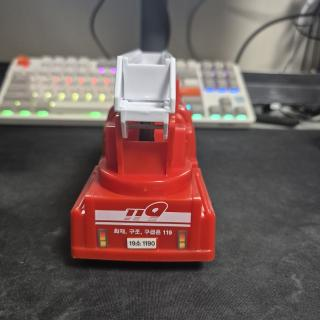Fire_truck: (71, 49, 215, 261)
